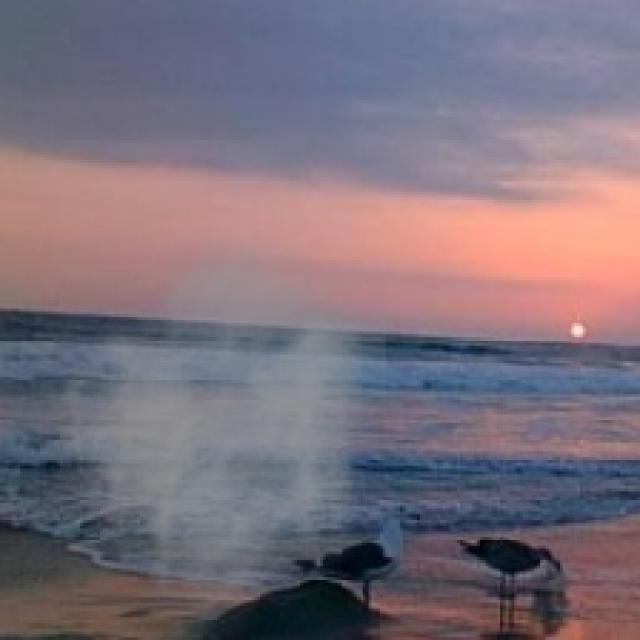Smoke: (17, 217, 386, 637)
